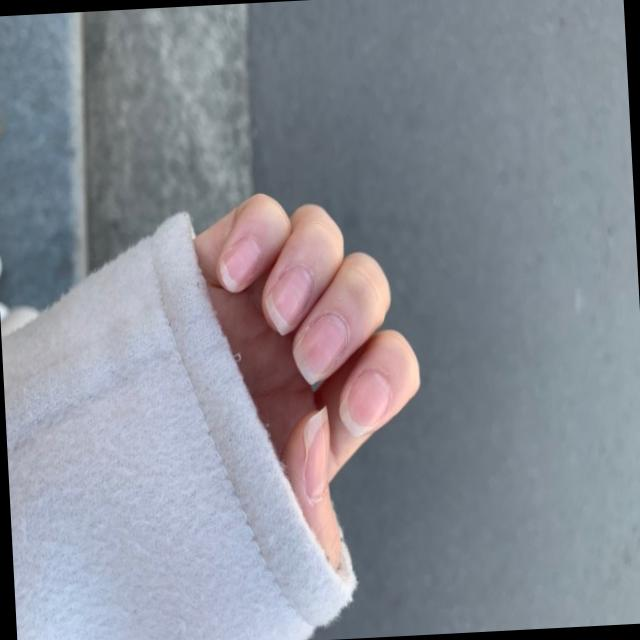Nail: (292, 312, 347, 386), (338, 372, 388, 440), (264, 264, 310, 335), (217, 237, 259, 292), (304, 405, 329, 496)
